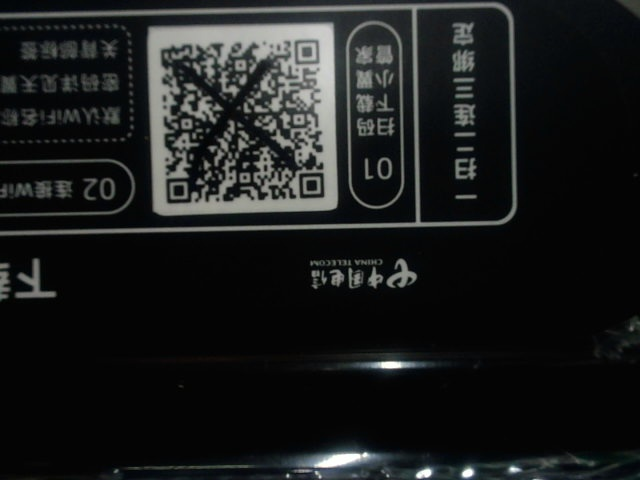AB_ChinaTelecom: (295, 249, 421, 295)
